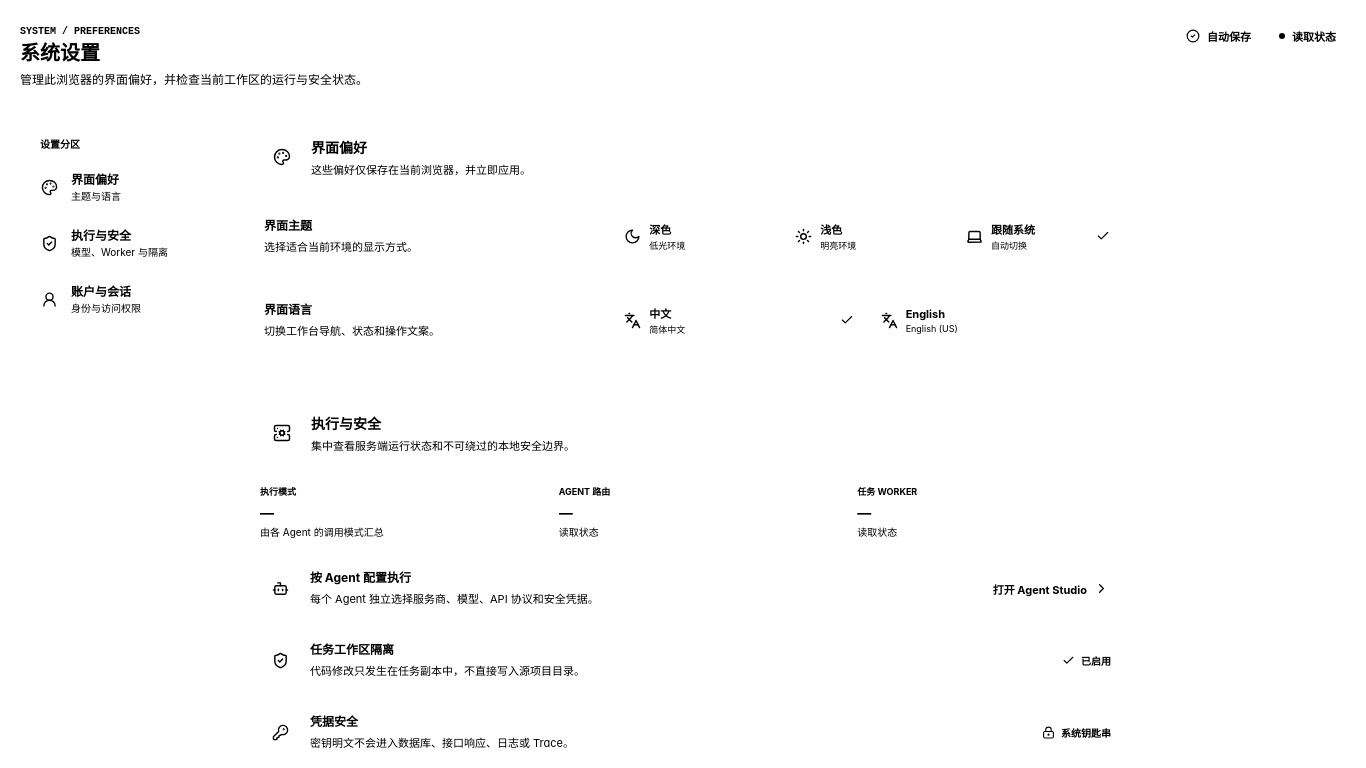
SettingsPage › switches language and keeps runtime safety visible
The image size is (1366, 768).
Click the radio button labelled "English English (US)" at (995, 320), box [871, 294, 1120, 346]
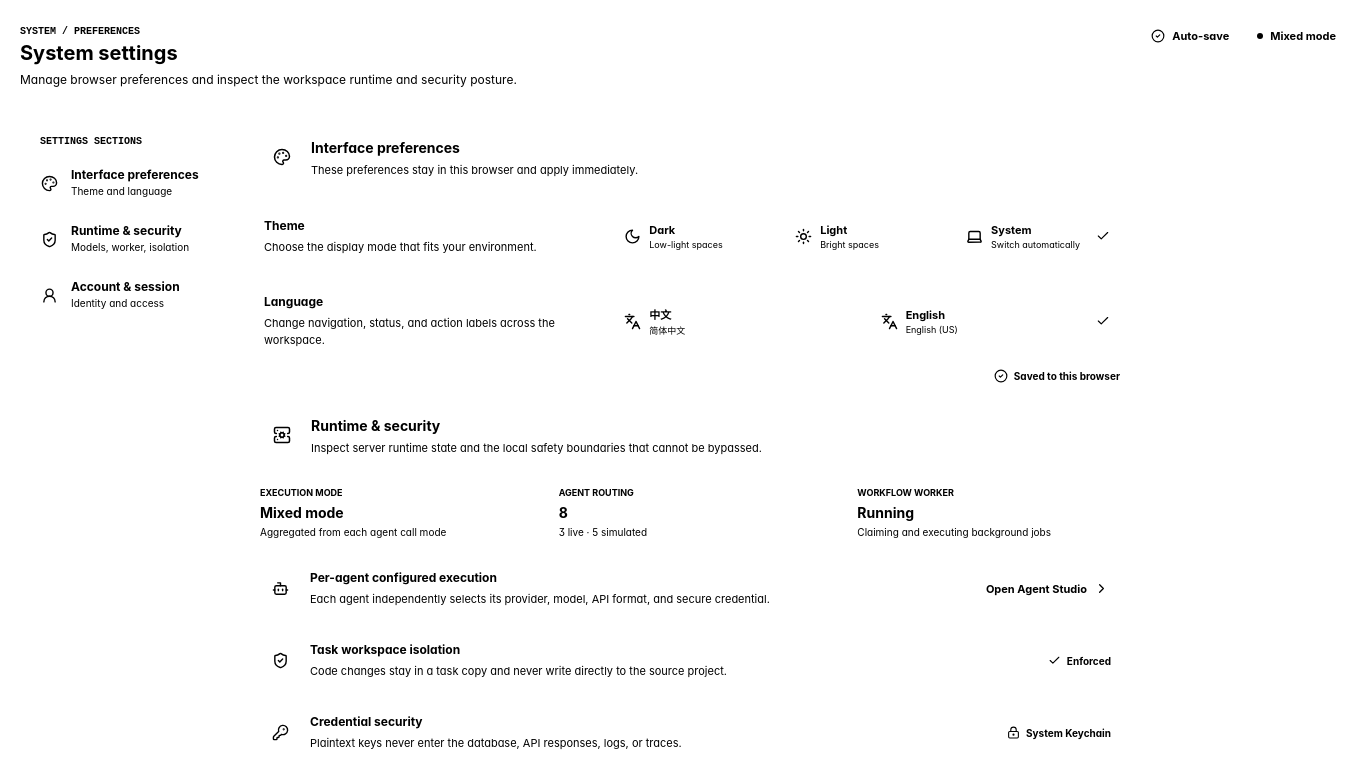
Expected: the heading "System settings" is shown, [20, 41, 178, 65]
Expected: the heading "Per-agent configured execution" is shown, [310, 570, 497, 585]
Expected: the text "Workflow worker" is shown, [857, 487, 954, 498]
